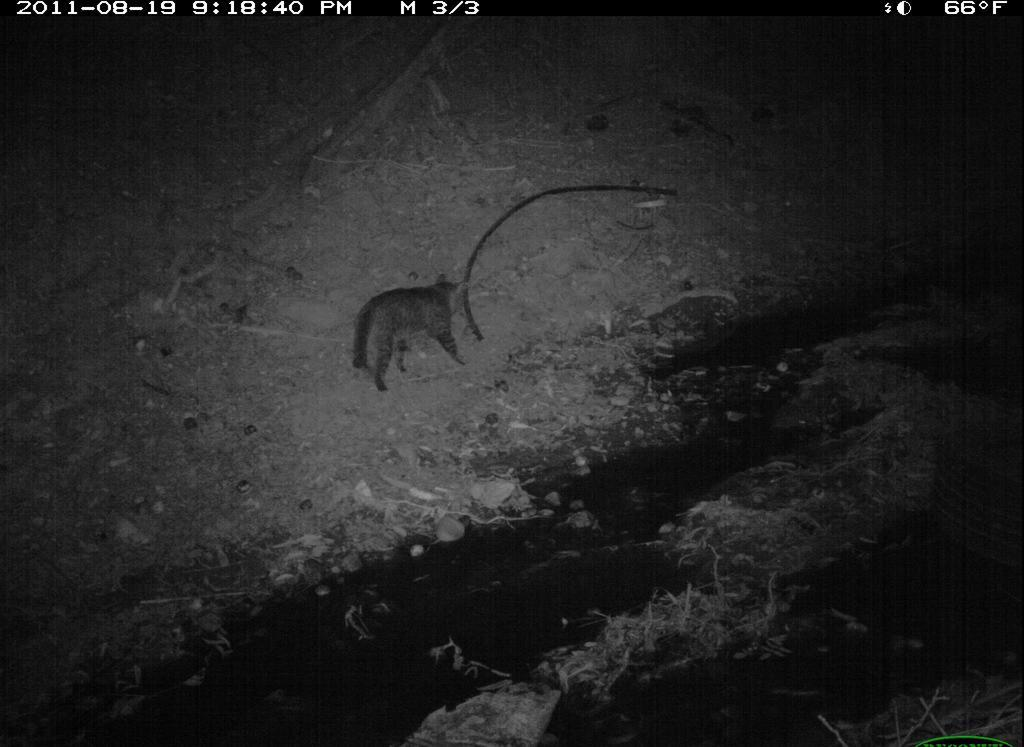cat: (341, 269, 498, 409)
